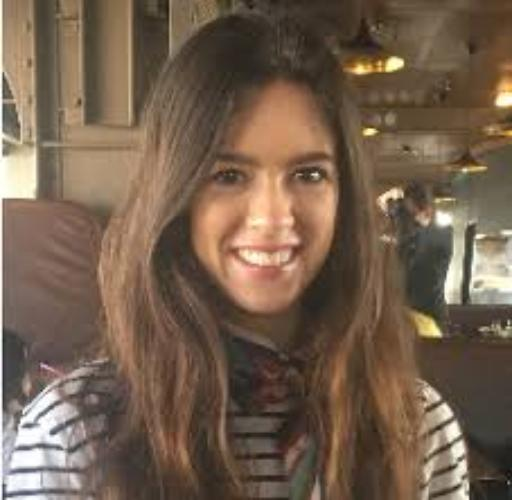left_eye: (291, 167, 334, 188)
left_lip_corner: (296, 240, 311, 260)
right_eye: (210, 168, 252, 189)
right_lip_corner: (225, 242, 240, 265)
